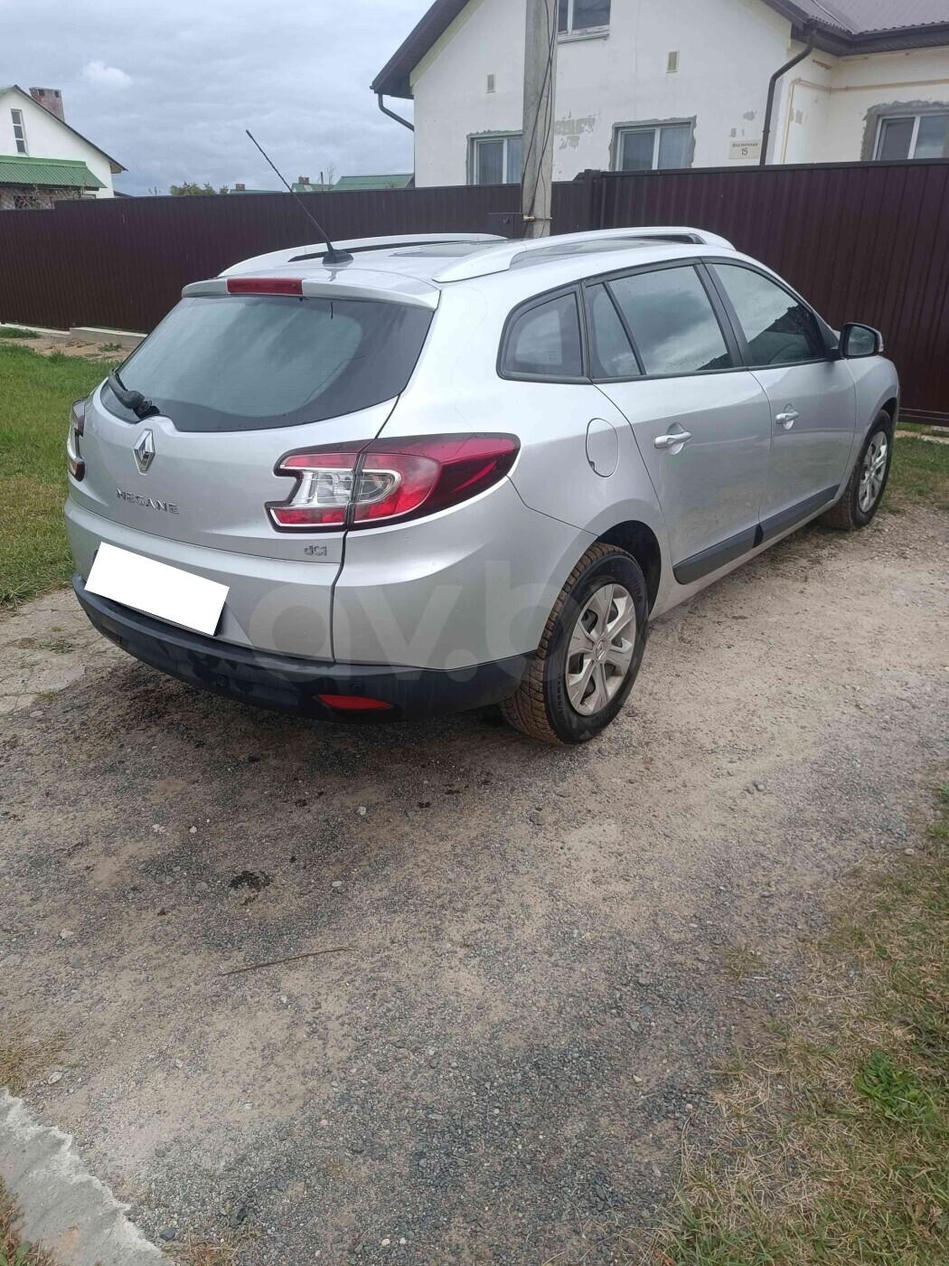Megane_2008-2014: (63, 231, 904, 756)
